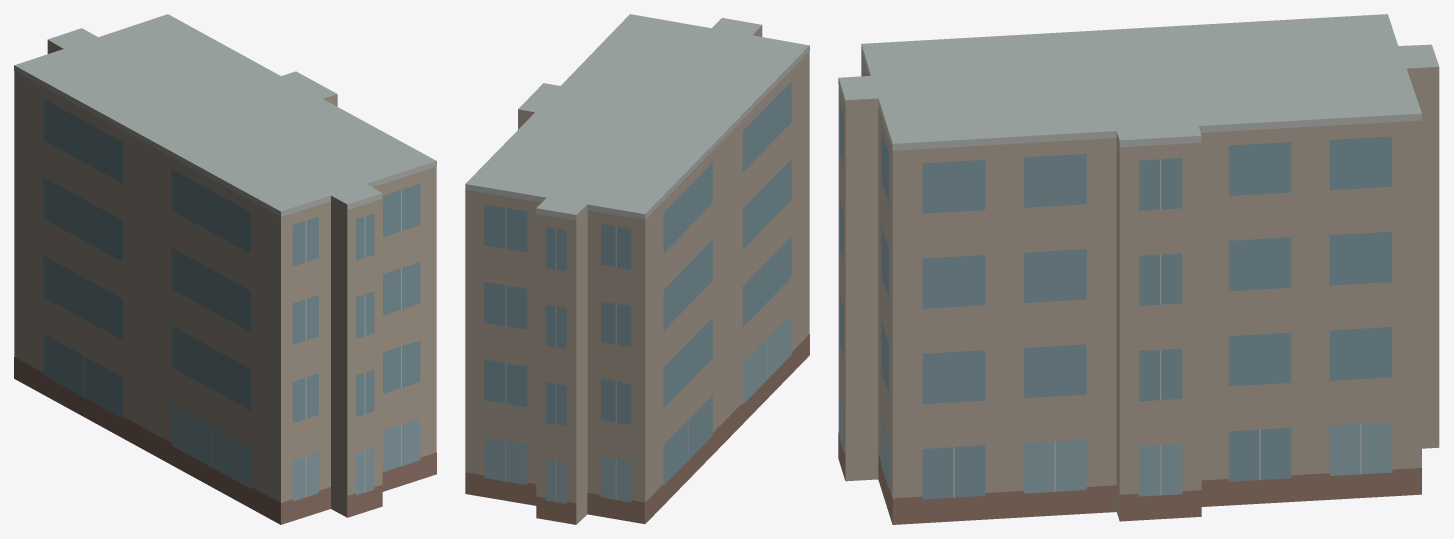
File: survey-upis-32716131.glb
3 views of the same model, side by side, from view 1: azimuth 30°, elevation 25°; view 2: azimuth 150°, elevation 25°; view 3: azimuth 270°, elevation 25° (orthographic). The views are drawn at different scales.
Visible parts, largest first — view 1: survey-upis-32716131.tmp; view 2: survey-upis-32716131.tmp; view 3: survey-upis-32716131.tmp.
Part boxes in pixels (x1,y1,x2,y2): survey-upis-32716131.tmp: [14, 14, 436, 524]; survey-upis-32716131.tmp: [465, 14, 809, 524]; survey-upis-32716131.tmp: [838, 14, 1439, 524].
Bounding box in the file's own units: 9.88 × 13.5 × 19.31.
